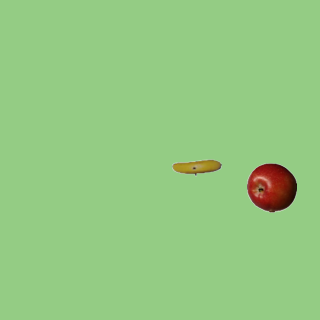Apple Braeburn: (246, 162, 296, 212)
Banana: (171, 142, 221, 192)
